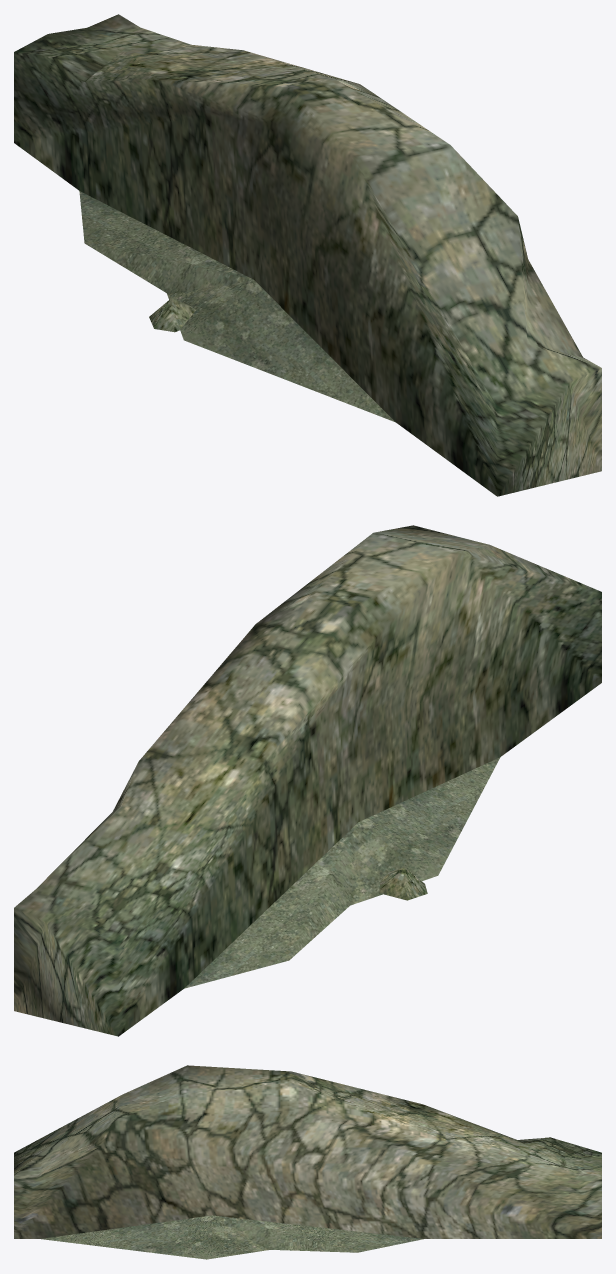
The model's file is thm_nboo_gungan_wall_ruined_sm_s01_l1.fbx.
3 renders of one model, top to bottom at view 1: azimuth 30°, elevation 25°; view 2: azimuth 150°, elevation 25°; view 3: azimuth 270°, elevation 25°, orthographic. The views are drawn at different scales.
Parts seen in each view (by area): view 1: mesh_node; view 2: mesh_node; view 3: mesh_node.
Boxes of the visible parts, left/top/right/bottom form: mesh_node: left=14, top=14, right=601, bottom=496; mesh_node: left=14, top=525, right=601, bottom=1036; mesh_node: left=14, top=1065, right=601, bottom=1259.
Bounding box in the file's own units: 1.23 × 1.08 × 4.
